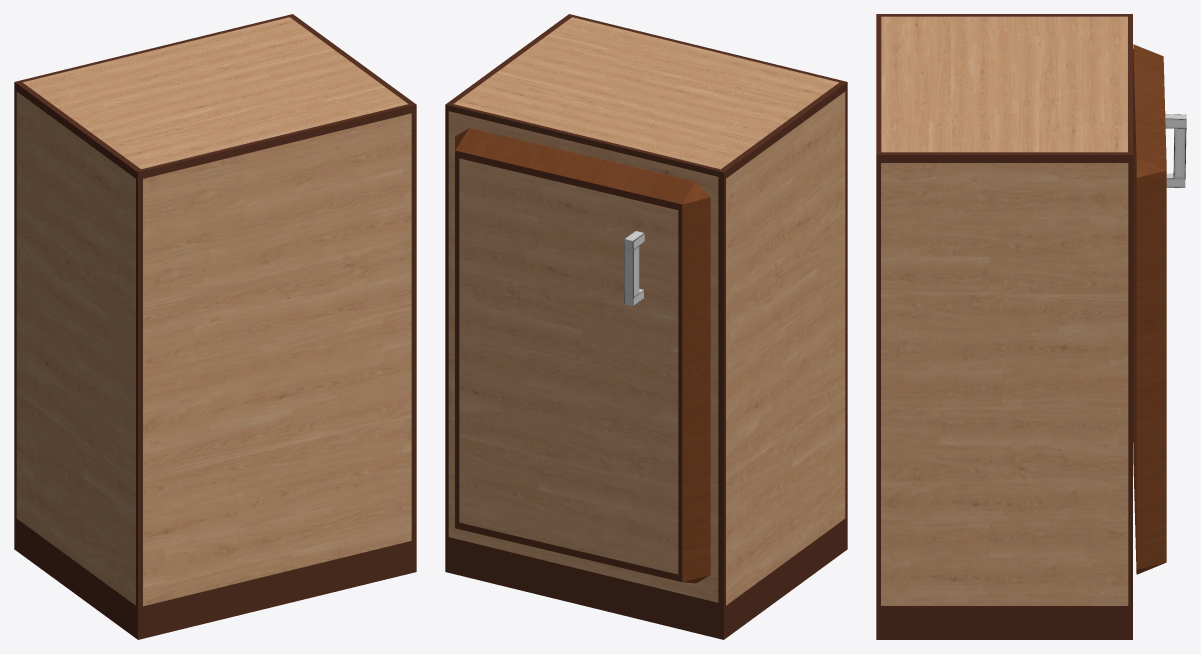
The model's file is Cabinet_Kitchen_Sealed.fbx.
3 renders of one model, left to right at view 1: azimuth 30°, elevation 25°; view 2: azimuth 150°, elevation 25°; view 3: azimuth 270°, elevation 25°, orthographic. The views are drawn at different scales.
Parts seen in each view (by area): view 1: Kitchen_Cabinet_Sealed1; view 2: Kitchen_Cabinet_Sealed1; view 3: Kitchen_Cabinet_Sealed1.
Boxes of the visible parts, bbox=[...] form: Kitchen_Cabinet_Sealed1: bbox=[14, 14, 416, 639]; Kitchen_Cabinet_Sealed1: bbox=[445, 14, 847, 639]; Kitchen_Cabinet_Sealed1: bbox=[876, 14, 1186, 639].
Bounding box in the file's own units: 56.12 × 90.02 × 52.24.
